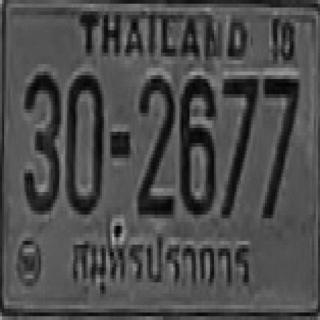N00: (65, 72, 102, 211)
N02: (137, 73, 173, 213)
N03: (22, 68, 59, 211)
N06: (179, 75, 214, 211)
N07: (220, 73, 257, 213), (261, 75, 298, 215)
P57: (67, 223, 259, 301)
